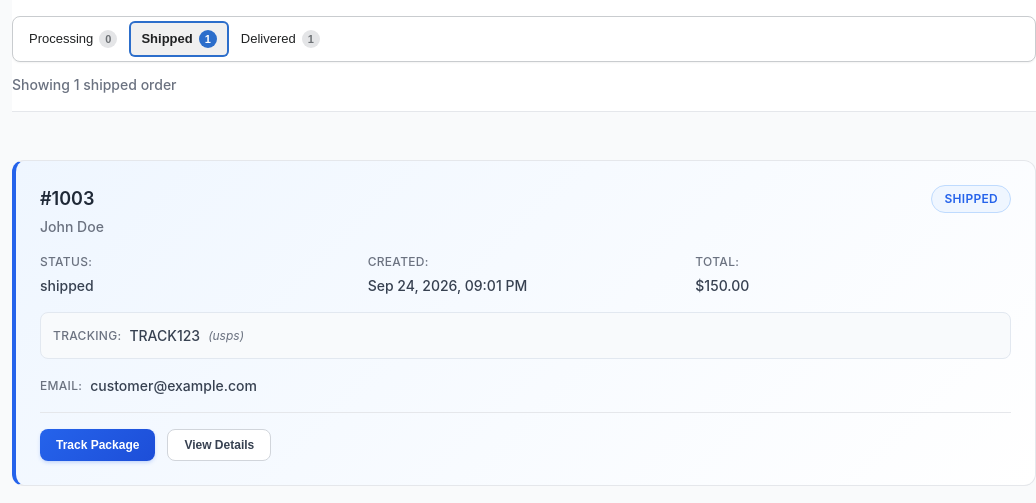
Scenario: OrdersTab Component › Tab-Specific Empty States › should show processing empty state when no processing orders
// Click Processing tab
Click the text "Processing" at x=61, y=39, box [29, 29, 93, 49]
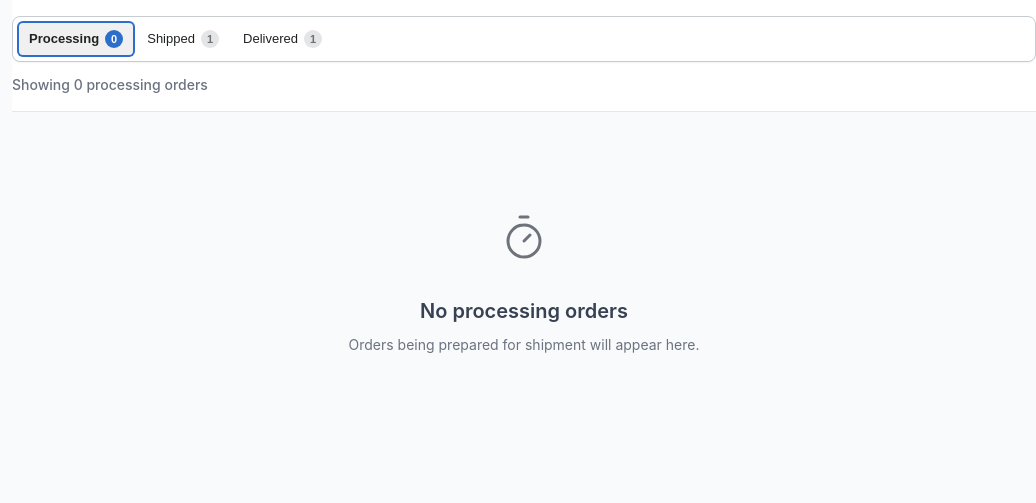
Now the heading "No processing orders" is shown, box [420, 296, 628, 326]
Now the text "Orders being prepared for shipment will appear here." is shown, box [348, 334, 699, 355]
